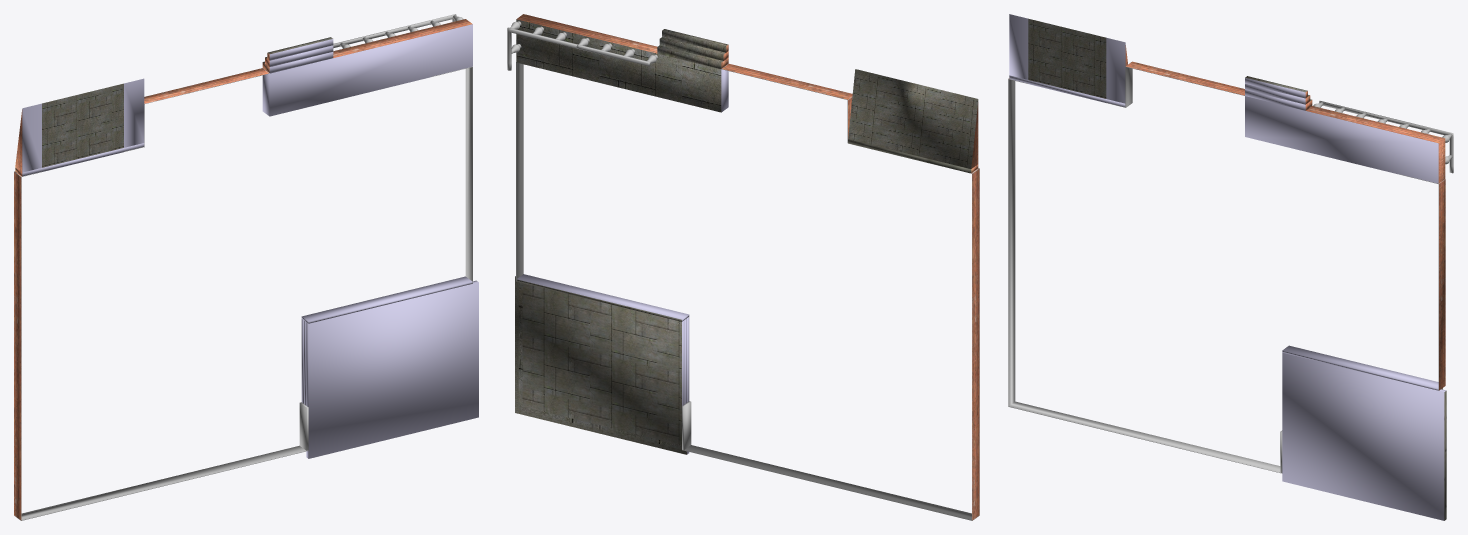
File: basement_tex_v3.fbx
The picture shows the model from 3 angles, left to right: view 1: azimuth 30°, elevation 25°; view 2: azimuth 150°, elevation 25°; view 3: azimuth 330°, elevation 25°; orthographic projection. The views are drawn at different scales.
Parts seen in each view (by area): view 1: Cube.001, Cube; view 2: Cube.001, Cube; view 3: Cube.001, Cube.
Boxes of the visible parts, left/top/right/bottom form: Cube.001: left=14, top=19, right=478, bottom=520; Cube: left=333, top=14, right=456, bottom=48; Cube.001: left=515, top=14, right=979, bottom=520; Cube: left=507, top=27, right=649, bottom=70; Cube.001: left=1008, top=14, right=1446, bottom=520; Cube: left=1319, top=101, right=1453, bottom=173.
Size of the model in its own units: 0.1116 by 0.098 by 0.00714.
Materials: 7 (5 with a texture image).
